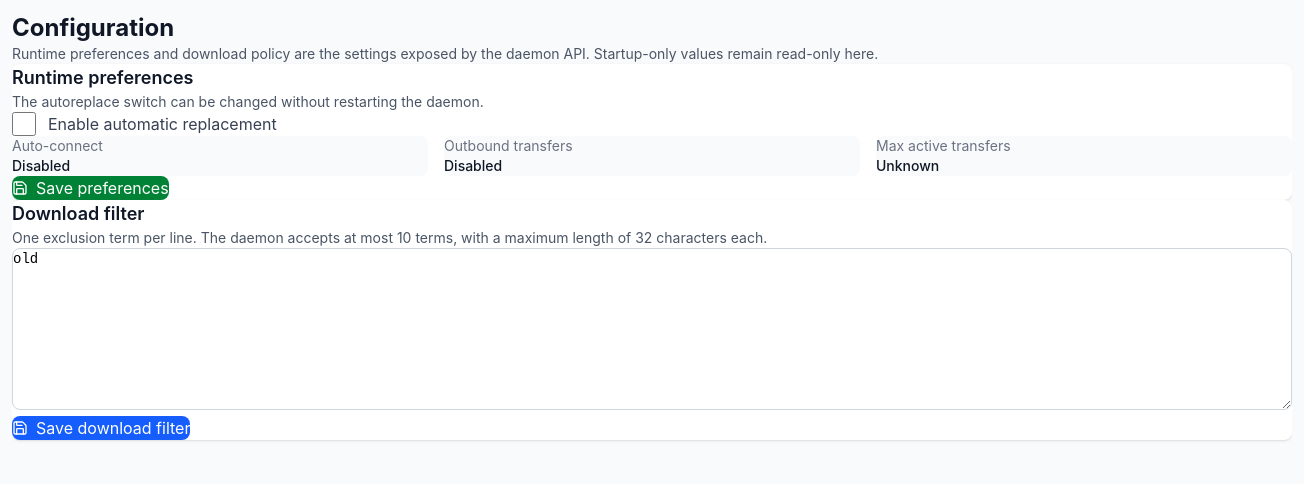
administrative pages › loads configuration and sends the edited download filter
Replace the text in the text box showing "old" with "new" at (652,329), box [12, 248, 1292, 410]
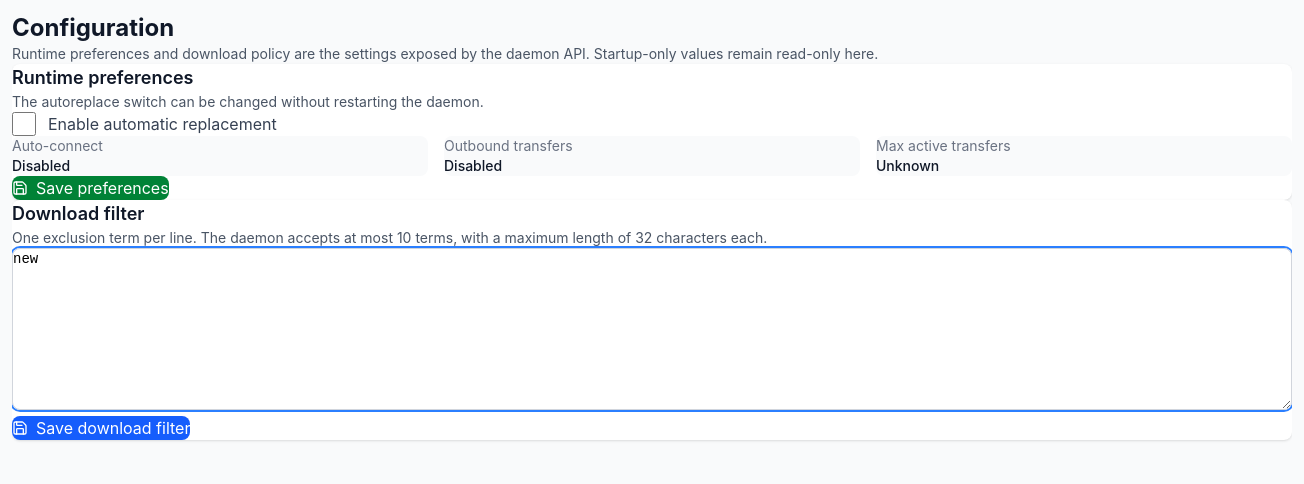
Click the button "Save download filter".
click(101, 428)  # box [12, 416, 190, 440]
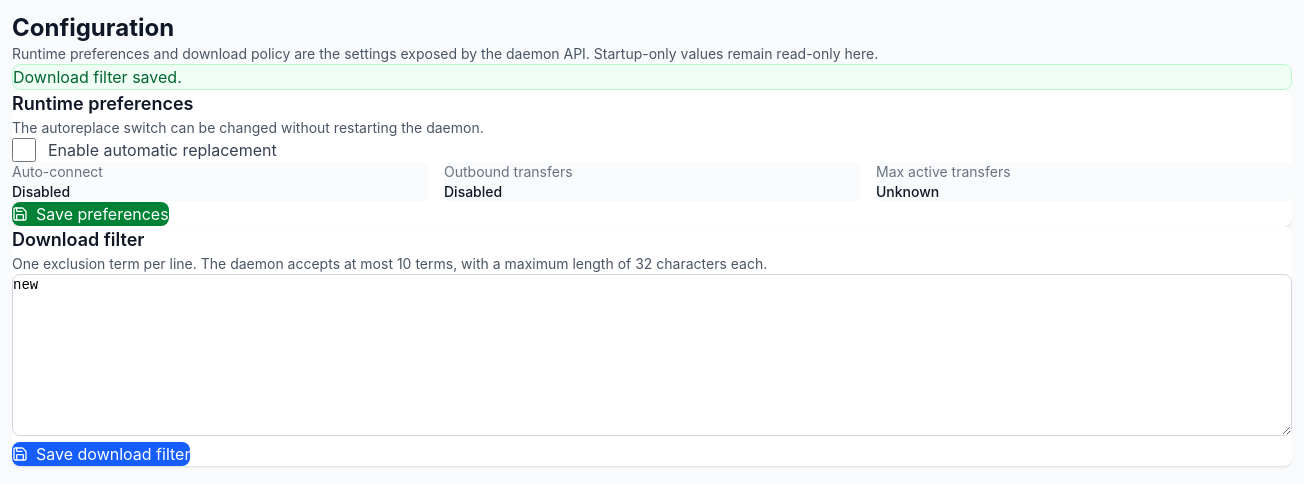
Expected: the text "Download filter saved." is shown, [13, 67, 182, 87]
